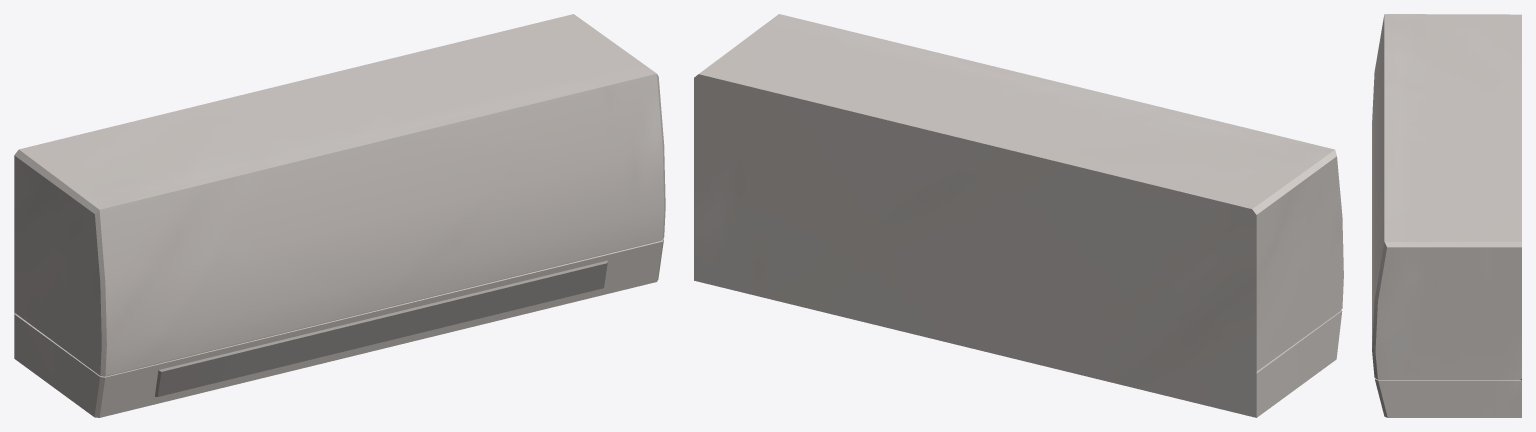
File: air_conditioner_1.fbx
3 views of the same model, side by side, from view 1: azimuth 30°, elevation 25°; view 2: azimuth 150°, elevation 25°; view 3: azimuth 270°, elevation 25° (orthographic). The views are drawn at different scales.
Visible parts, largest first — view 1: polySurface1081; view 2: polySurface1081; view 3: polySurface1081.
Part boxes in pixels (bbox=[...]): polySurface1081: bbox=[14, 14, 665, 417]; polySurface1081: bbox=[694, 14, 1343, 417]; polySurface1081: bbox=[1372, 14, 1521, 417].
Size of the model in its own units: 99.23 by 35 by 27.24.
1 material, 1 textured.
